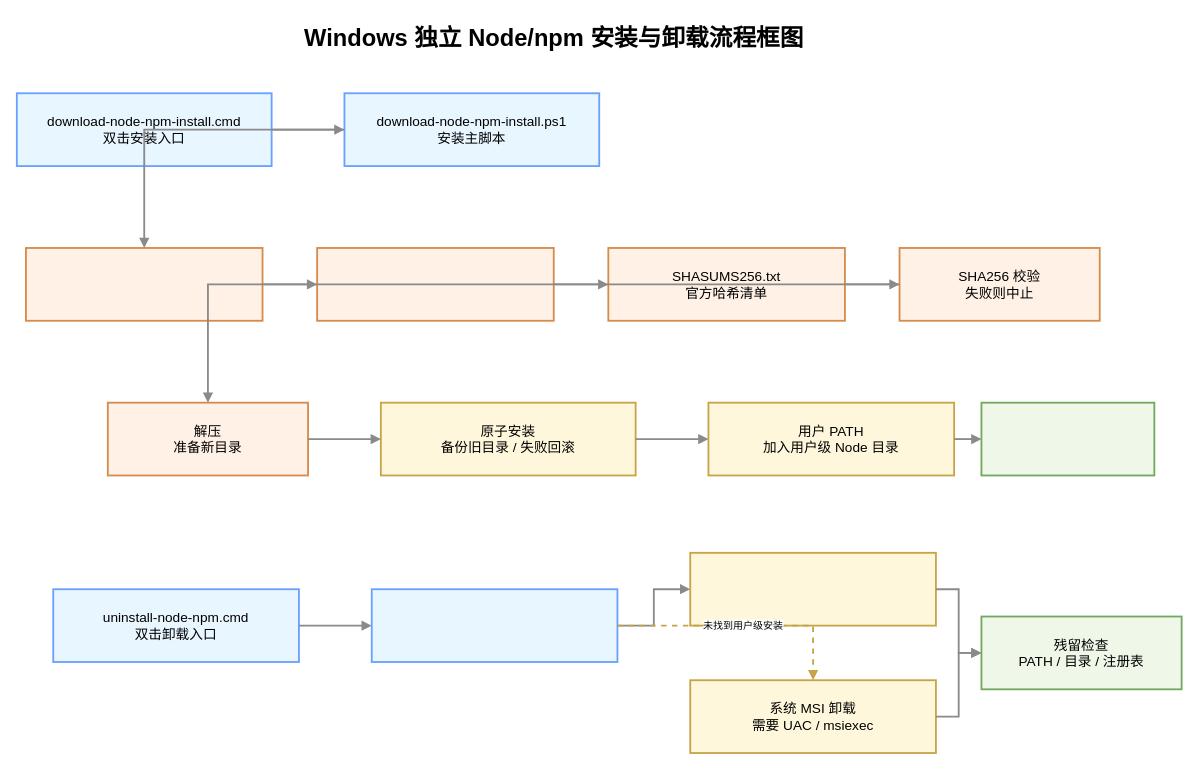
This 1198x769 diagram has some shape labels left out. Each missing label, with the centre of its shape:
Node LTS zip 下载到临时目录: pixel 435 284
Node 官方 index.json 选择 LTS x64: pixel 144 284
uninstall-node-npm.ps1 卸载主脚本: pixel 494 625
删除用户级 Node 脚本安装目录优先: pixel 812 588
验证 node -v / npm -v: pixel 1067 438
